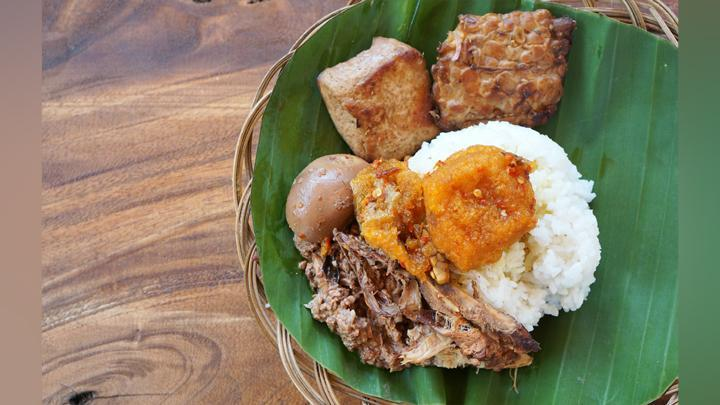gudeg: (286, 13, 602, 372)
